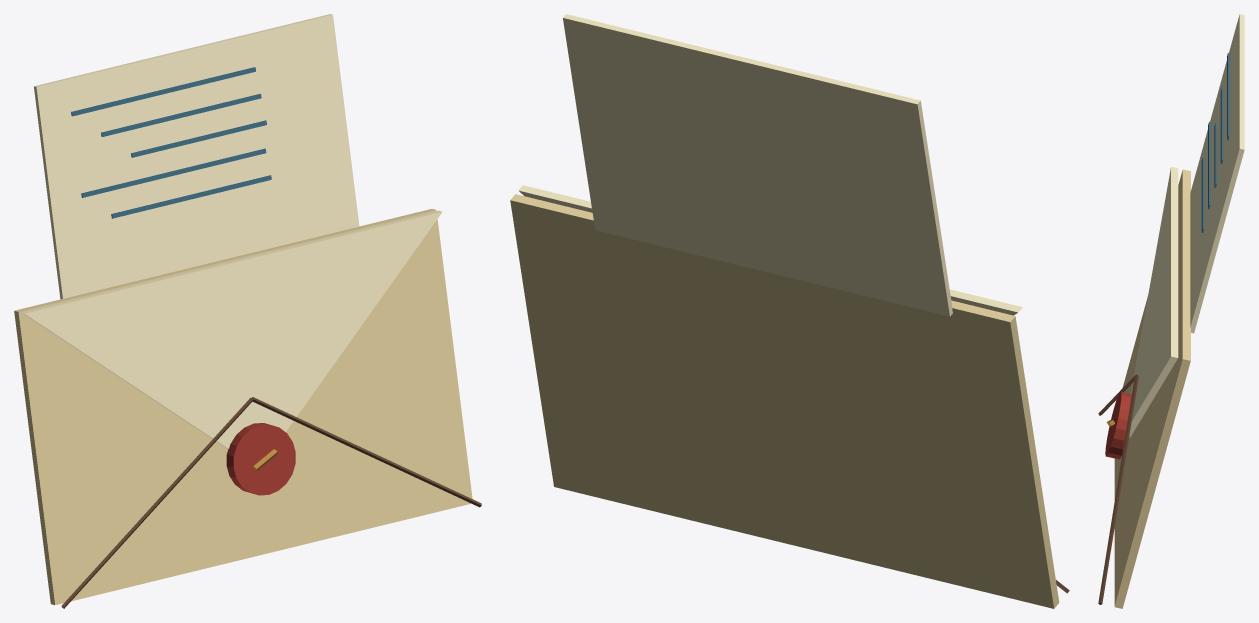
3 renders of one model, left to right at view 1: azimuth 30°, elevation 25°; view 2: azimuth 150°, elevation 25°; view 3: azimuth 270°, elevation 25°, orthographic. The views are drawn at different scales.
Parts seen in each view (by area): view 1: C2-05_pale, C2-05_paper, C2-05_blue, C2-05_red, C2-05_brown; view 2: C2-05_paper, C2-05_pale; view 3: C2-05_pale, C2-05_paper, C2-05_blue, C2-05_brown, C2-05_red.
Part boxes in pixels (bbox=[...]): C2-05_pale: bbox=[21, 14, 442, 449]; C2-05_paper: bbox=[14, 209, 472, 605]; C2-05_blue: bbox=[71, 67, 271, 218]; C2-05_red: bbox=[226, 423, 295, 495]; C2-05_brown: bbox=[61, 397, 481, 608]; C2-05_paper: bbox=[510, 194, 1059, 608]; C2-05_pale: bbox=[518, 14, 1022, 316]; C2-05_pale: bbox=[1129, 14, 1244, 437]; C2-05_paper: bbox=[1114, 169, 1190, 608]; C2-05_blue: bbox=[1201, 53, 1229, 232]; C2-05_brown: bbox=[1098, 374, 1138, 604]; C2-05_red: bbox=[1105, 392, 1131, 459].
Bounding box in the file's own units: 0.4322 × 0.4513 × 0.1401.
